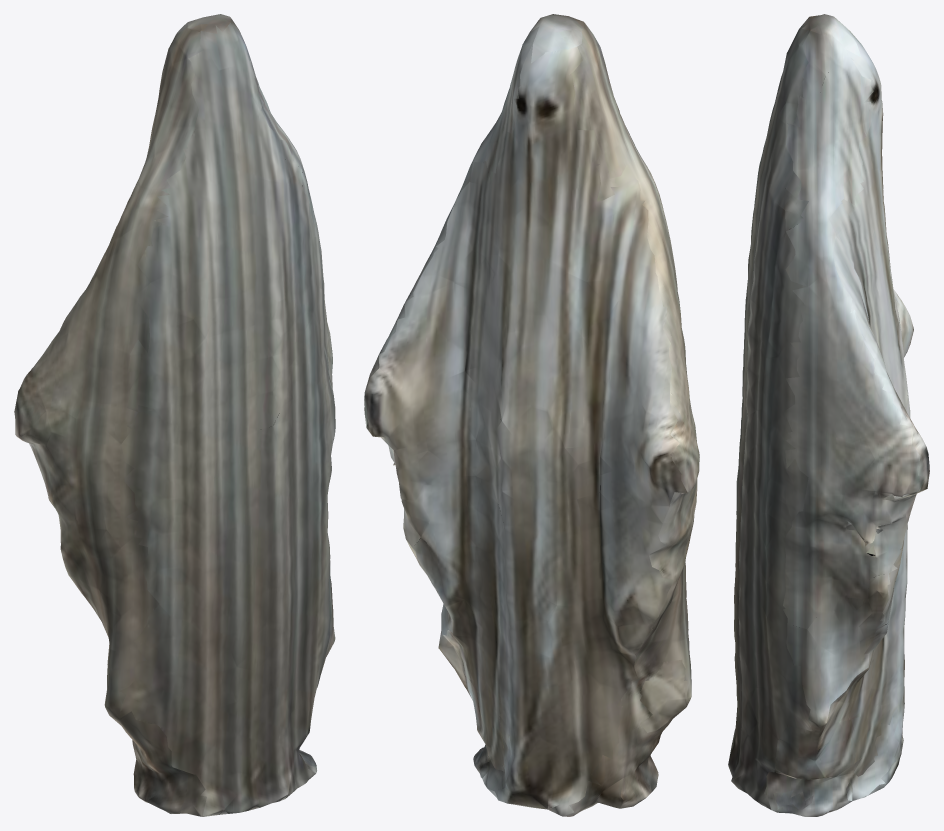
The model's file is ghost_3d.glb.
3 renders of one model, left to right at view 1: azimuth 30°, elevation 25°; view 2: azimuth 150°, elevation 25°; view 3: azimuth 270°, elevation 25°, orthographic.
Visible parts, largest first — view 1: world; view 2: world; view 3: world.
Part boxes in pixels (x1,y1,x2,y2): world: (14, 14, 335, 816); world: (364, 14, 699, 816); world: (728, 14, 929, 816).
Bounding box in the file's own units: 0.4096 × 0.9534 × 0.2296.
Materials: 1 (1 with a texture image).
